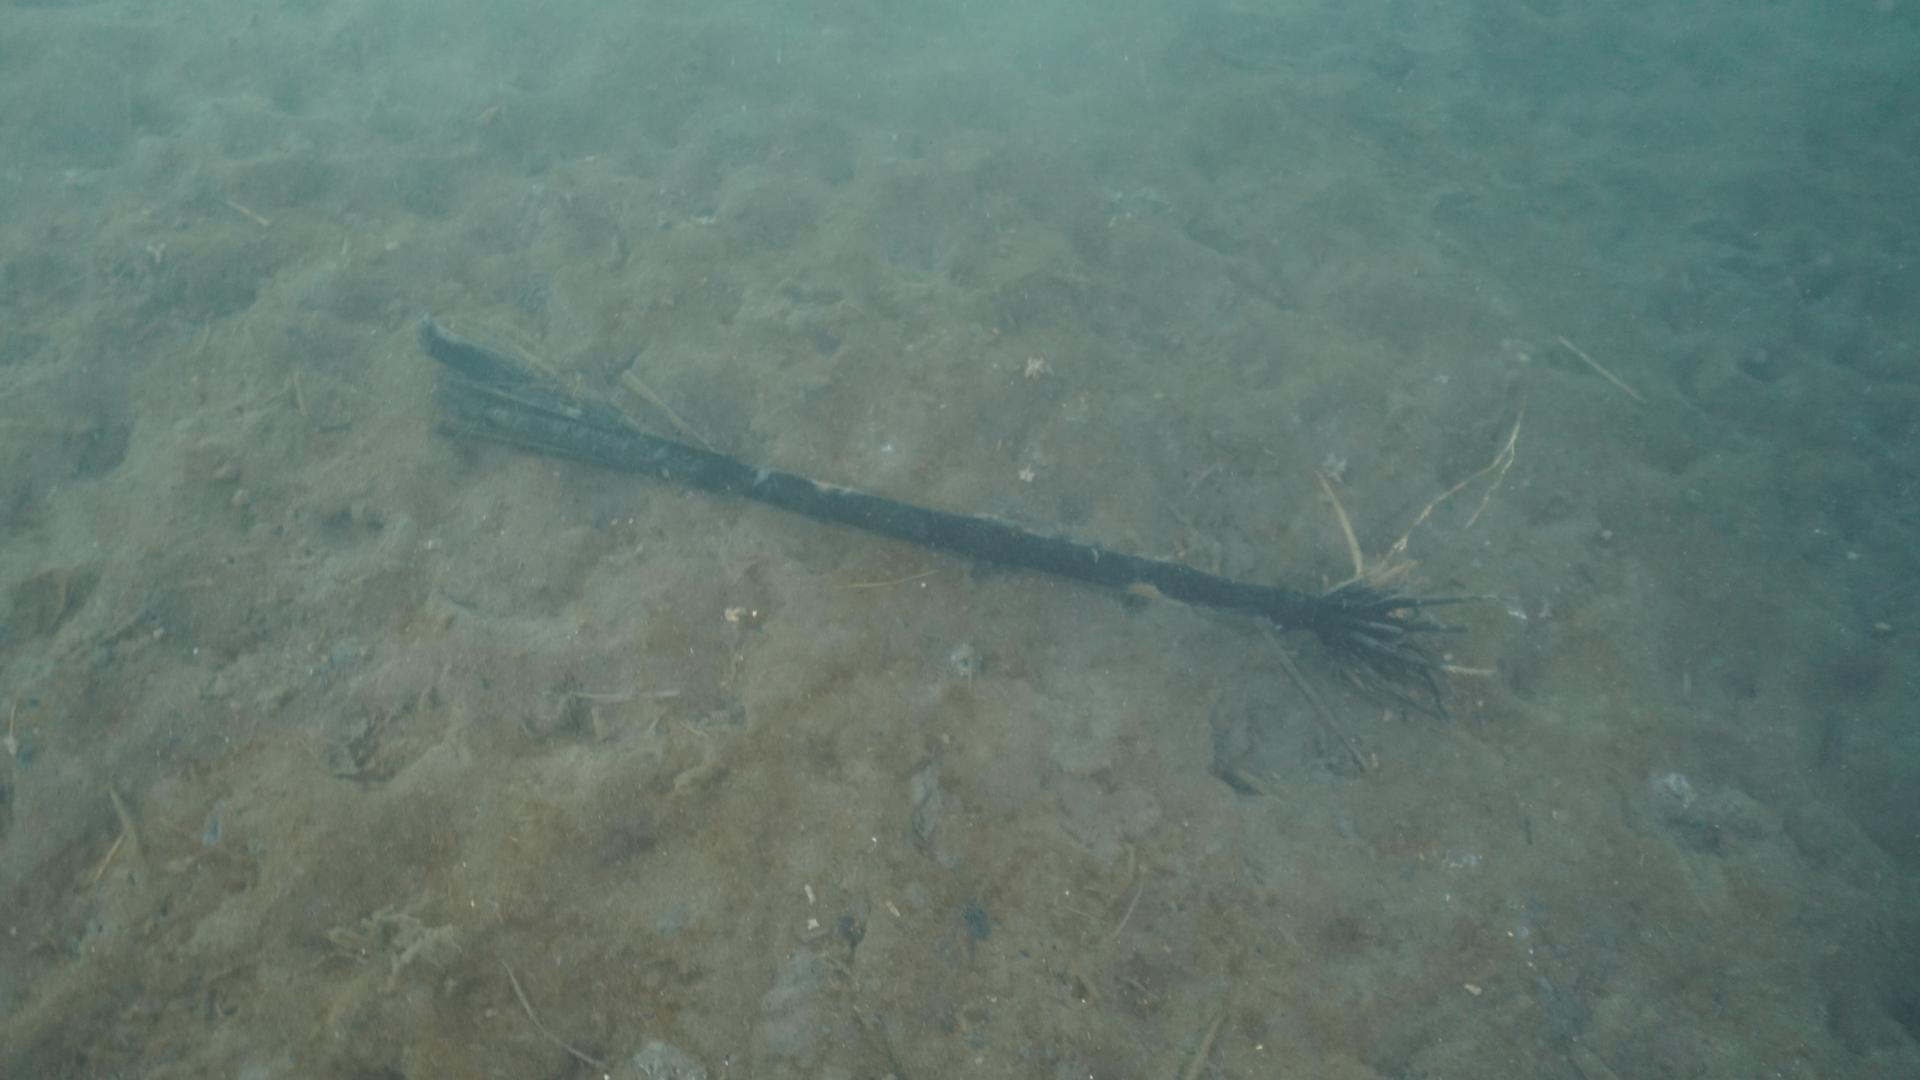wood: (415, 319, 1497, 705)
